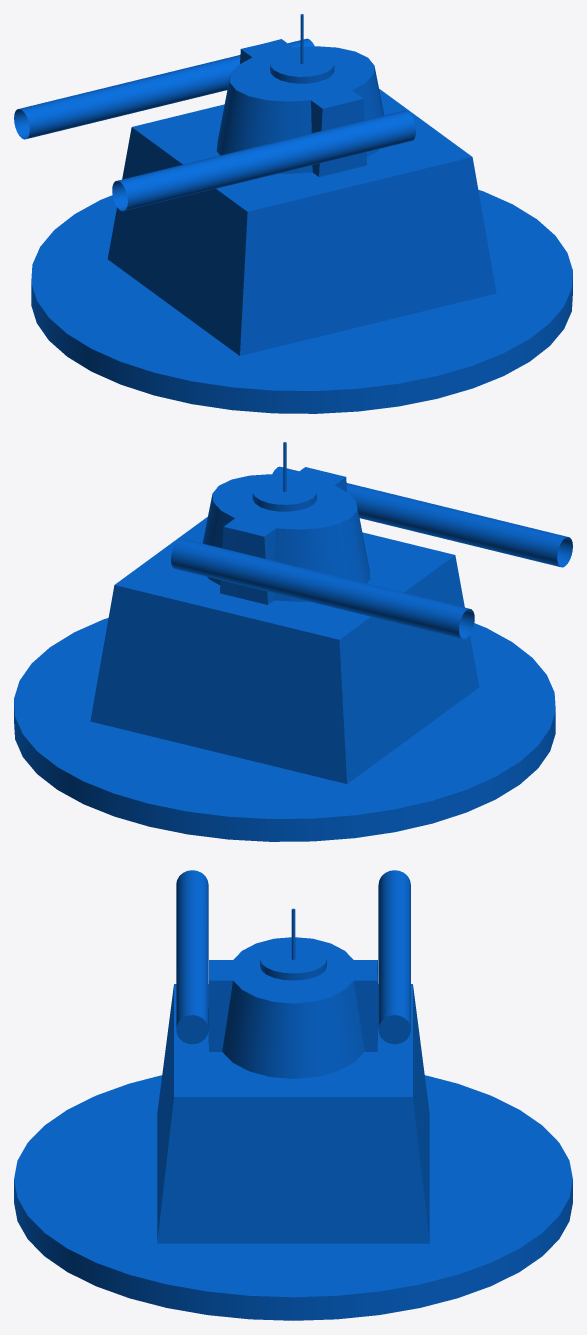
The model's file is tower1_player.fbx.
3 renders of one model, top to bottom at view 1: azimuth 30°, elevation 25°; view 2: azimuth 150°, elevation 25°; view 3: azimuth 270°, elevation 25°, orthographic. The views are drawn at different scales.
Parts seen in each view (by area): view 1: pCube1, pCylinder1, pCylinder2, pCylinder3, pCylinder4, pCylinder5; view 2: pCube1, pCylinder1, pCylinder2, pCylinder4, pCylinder3, pCylinder5; view 3: pCylinder1, pCube1, pCylinder2, pCylinder3, pCylinder4, pCylinder5.
Part boxes in pixels (x1=…): pCube1: x1=107, y1=89, x2=496, y2=355; pCylinder1: x1=31, y1=190, x2=572, y2=413; pCylinder2: x1=216, y1=39, x2=384, y2=176; pCylinder3: x1=112, y1=110, x2=415, y2=211; pCylinder4: x1=14, y1=38, x2=314, y2=139; pCylinder5: x1=270, y1=49, x2=334, y2=83; pCube1: x1=90, y1=517, x2=479, y2=783; pCylinder1: x1=14, y1=618, x2=555, y2=841; pCylinder2: x1=202, y1=467, x2=370, y2=604; pCylinder4: x1=171, y1=538, x2=474, y2=639; pCylinder3: x1=272, y1=466, x2=572, y2=567; pCylinder5: x1=252, y1=477, x2=316, y2=511; pCylinder1: x1=14, y1=1075, x2=572, y2=1320; pCube1: x1=157, y1=984, x2=429, y2=1243; pCylinder2: x1=208, y1=937, x2=377, y2=1078; pCylinder3: x1=176, y1=870, x2=208, y2=1044; pCylinder4: x1=378, y1=870, x2=410, y2=1044; pCylinder5: x1=260, y1=945, x2=326, y2=980.
Size of the model in its own units: 15.96 by 9.24 by 15.96.
